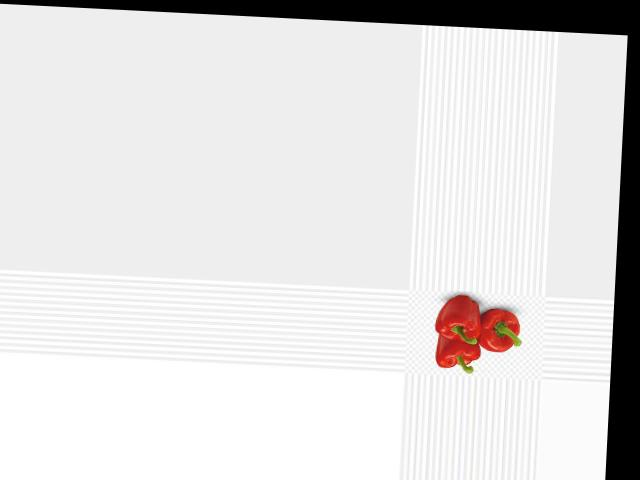bell_pepper: (472, 303, 526, 359)
